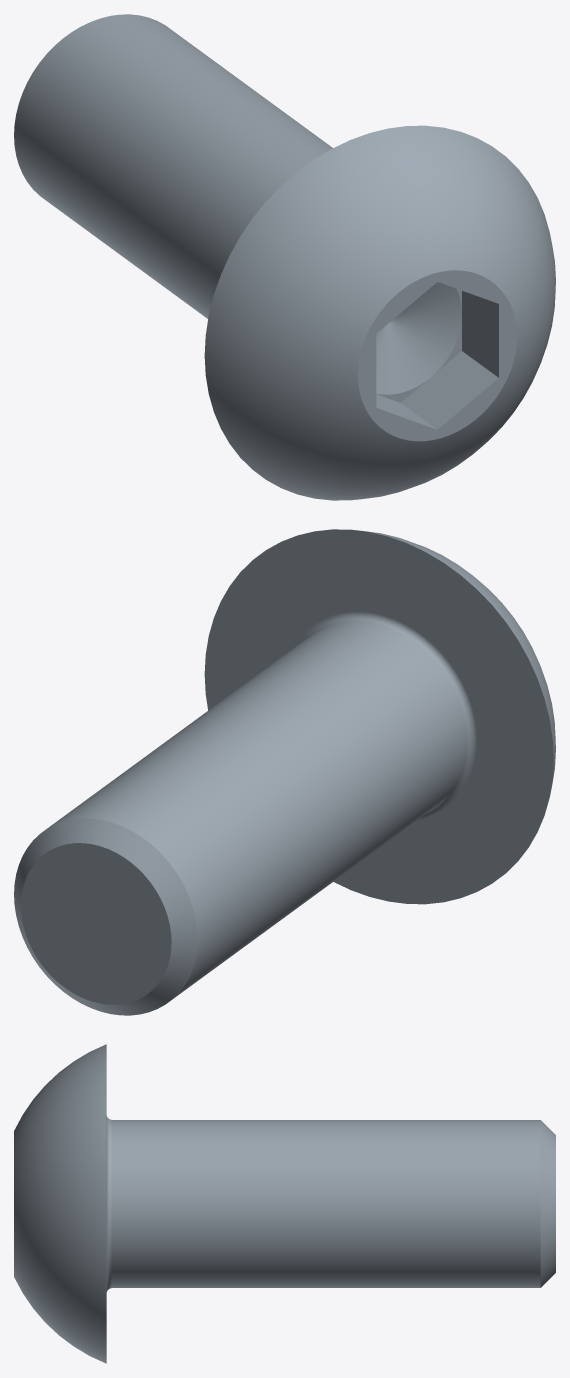
File: Socket_button_head_screw_M3x0_5_x_8.obj
3 renders of one model, top to bottom at view 1: azimuth 30°, elevation 25°; view 2: azimuth 150°, elevation 25°; view 3: azimuth 270°, elevation 25°, orthographic. The views are drawn at different scales.
Parts seen in each view (by area): view 1: mesh262, mesh259, mesh263, mesh271, mesh268, mesh269, mesh267; view 2: mesh259, mesh261, mesh257, mesh258, mesh260, mesh262; view 3: mesh259, mesh262, mesh258, mesh260.
Boxes of the visible parts, left/top/right/bottom form: mesh262: left=204, top=125, right=555, bottom=500; mesh259: left=14, top=14, right=332, bottom=318; mesh263: left=358, top=270, right=517, bottom=441; mesh271: left=376, top=282, right=461, bottom=394; mesh268: left=401, top=351, right=498, bottom=429; mesh269: left=462, top=290, right=498, bottom=377; mesh267: left=376, top=394, right=436, bottom=429; mesh259: left=47, top=620, right=467, bottom=999; mesh261: left=204, top=529, right=553, bottom=904; mesh257: left=21, top=843, right=171, bottom=1004; mesh258: left=14, top=818, right=197, bottom=1015; mesh260: left=292, top=611, right=477, bottom=820; mesh262: left=355, top=530, right=555, bottom=795; mesh259: left=112, top=1120, right=540, bottom=1287; mesh262: left=14, top=1044, right=106, bottom=1363; mesh258: left=540, top=1120, right=555, bottom=1287; mesh260: left=106, top=1116, right=112, bottom=1291.
Size of the model in its own units: 0.0057 by 0.00569 by 0.00965.
